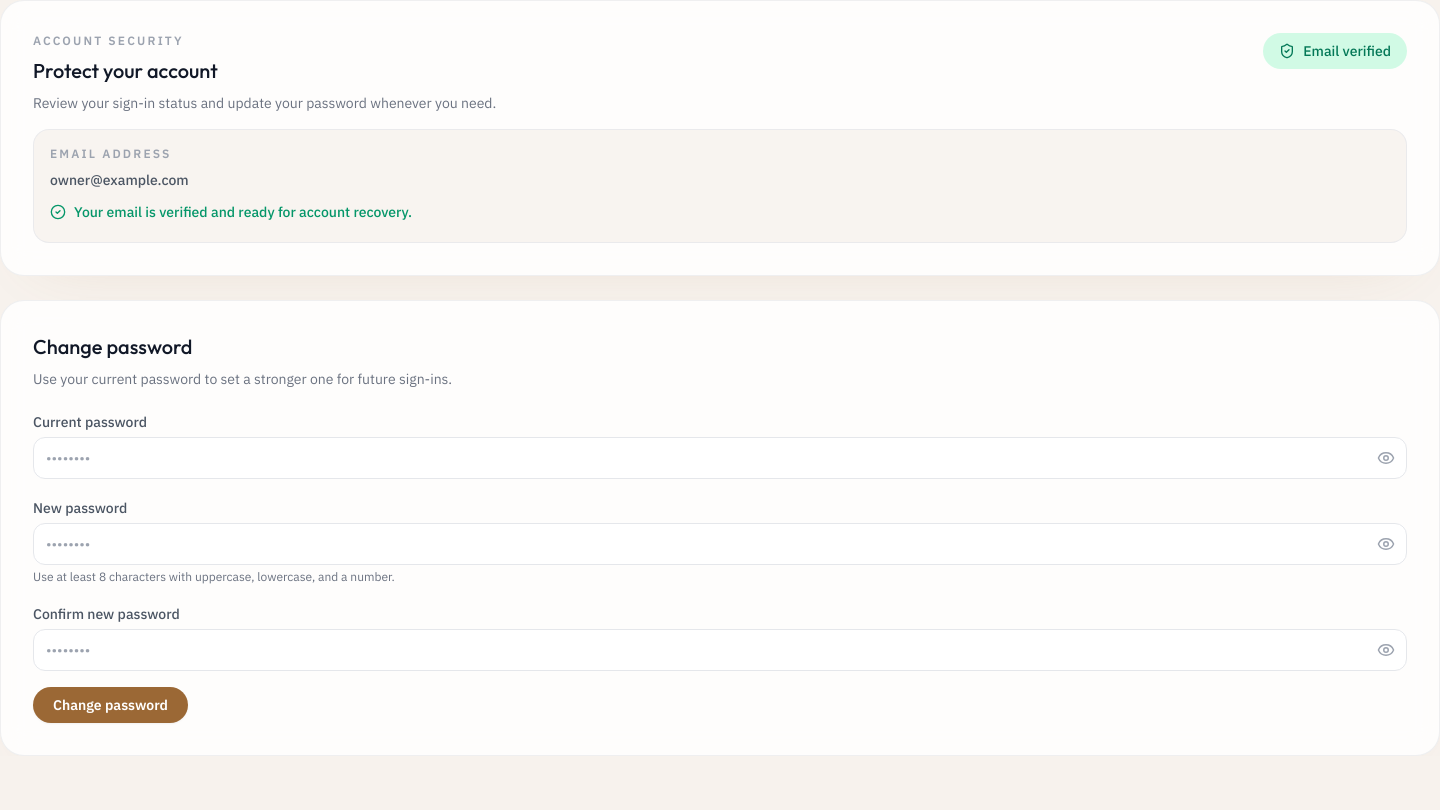
AccountSecurityPanel › shows a required message when confirm password is empty
The width and height of the screenshot is (1440, 810).
In the password field labelled "Current password": (720, 458) [33,437,1407,479], type "CurrentPass1"
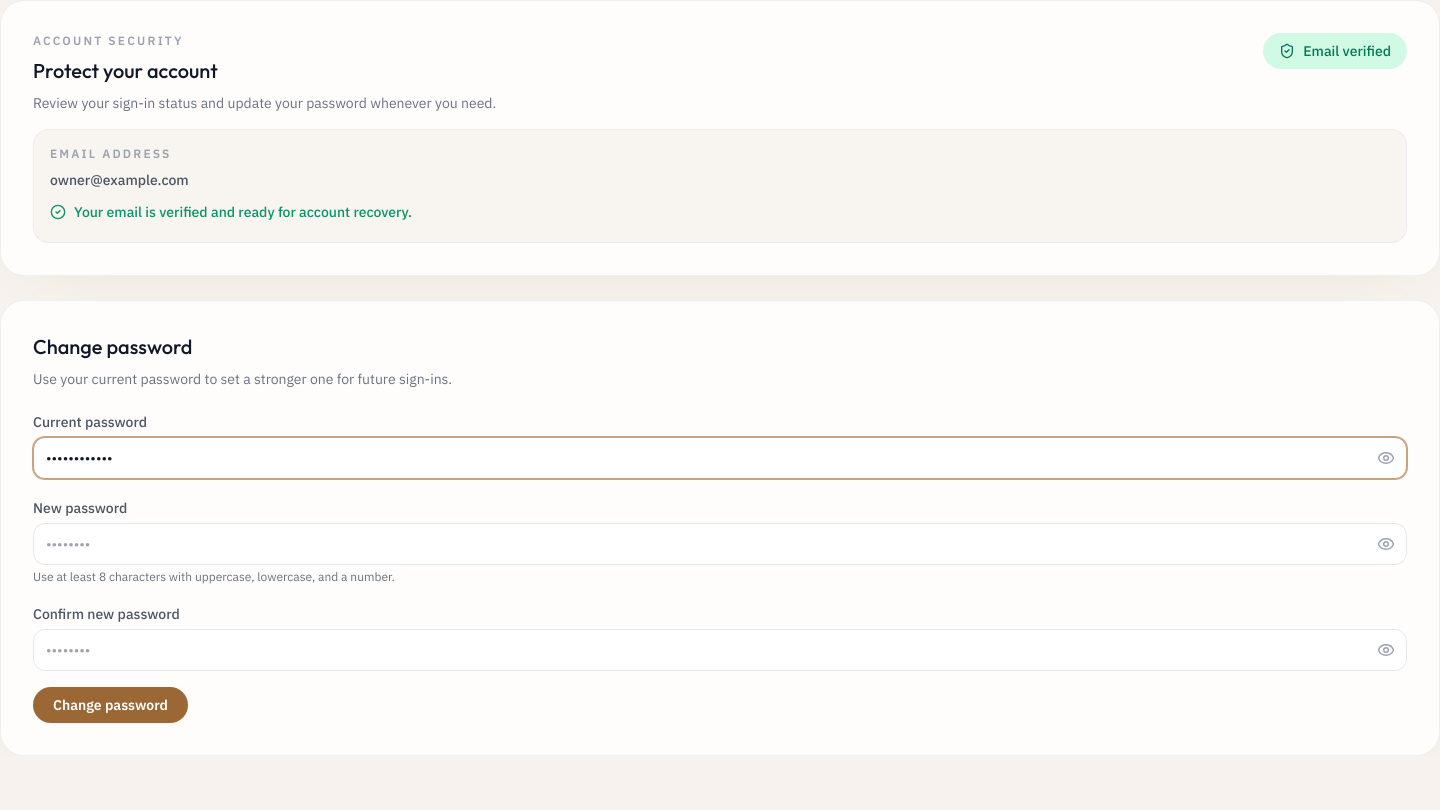
In the password field labelled "New password": (720, 544) [33,523,1407,565], type "StrongPass1"
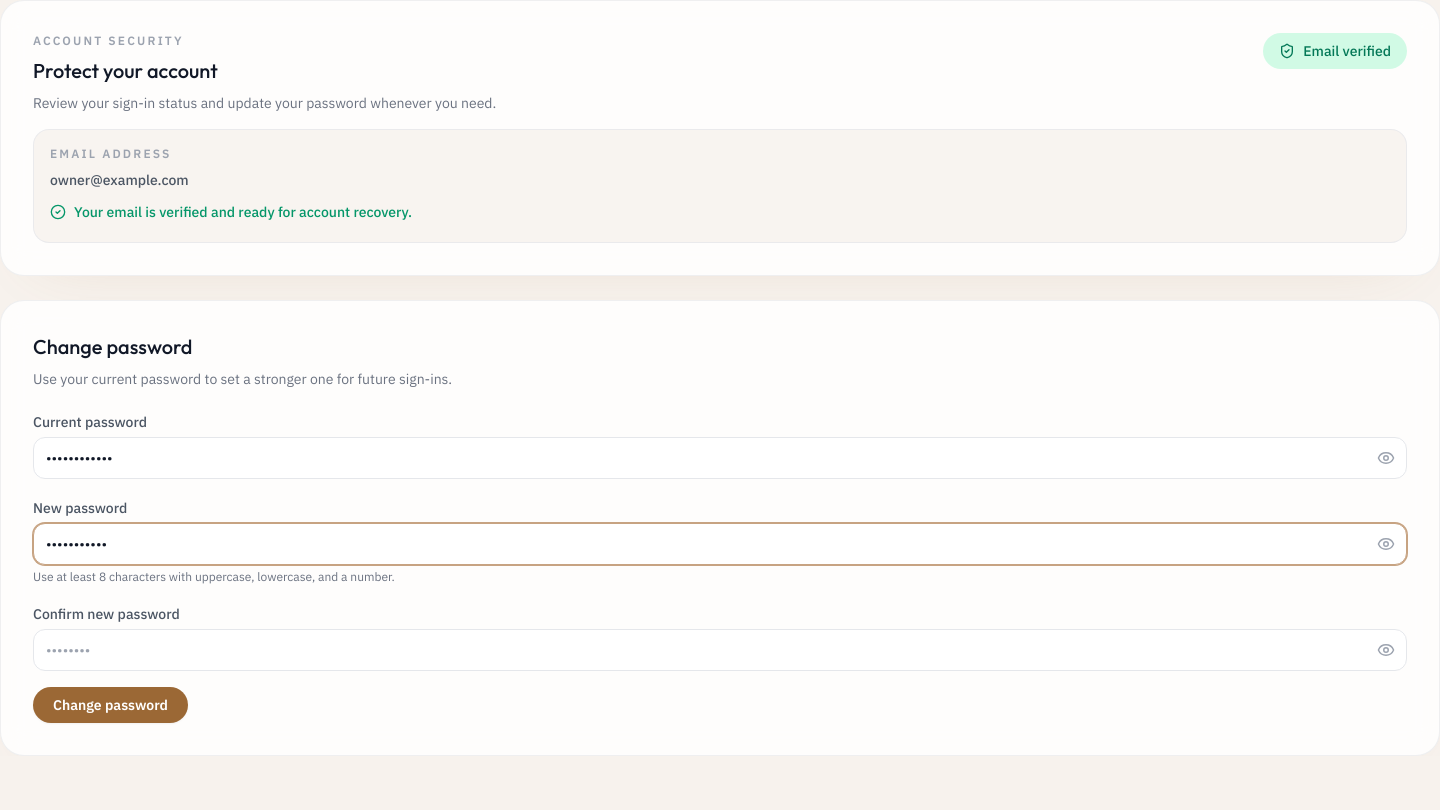
Click the button "Change password": (110, 705) [33,687,188,723]
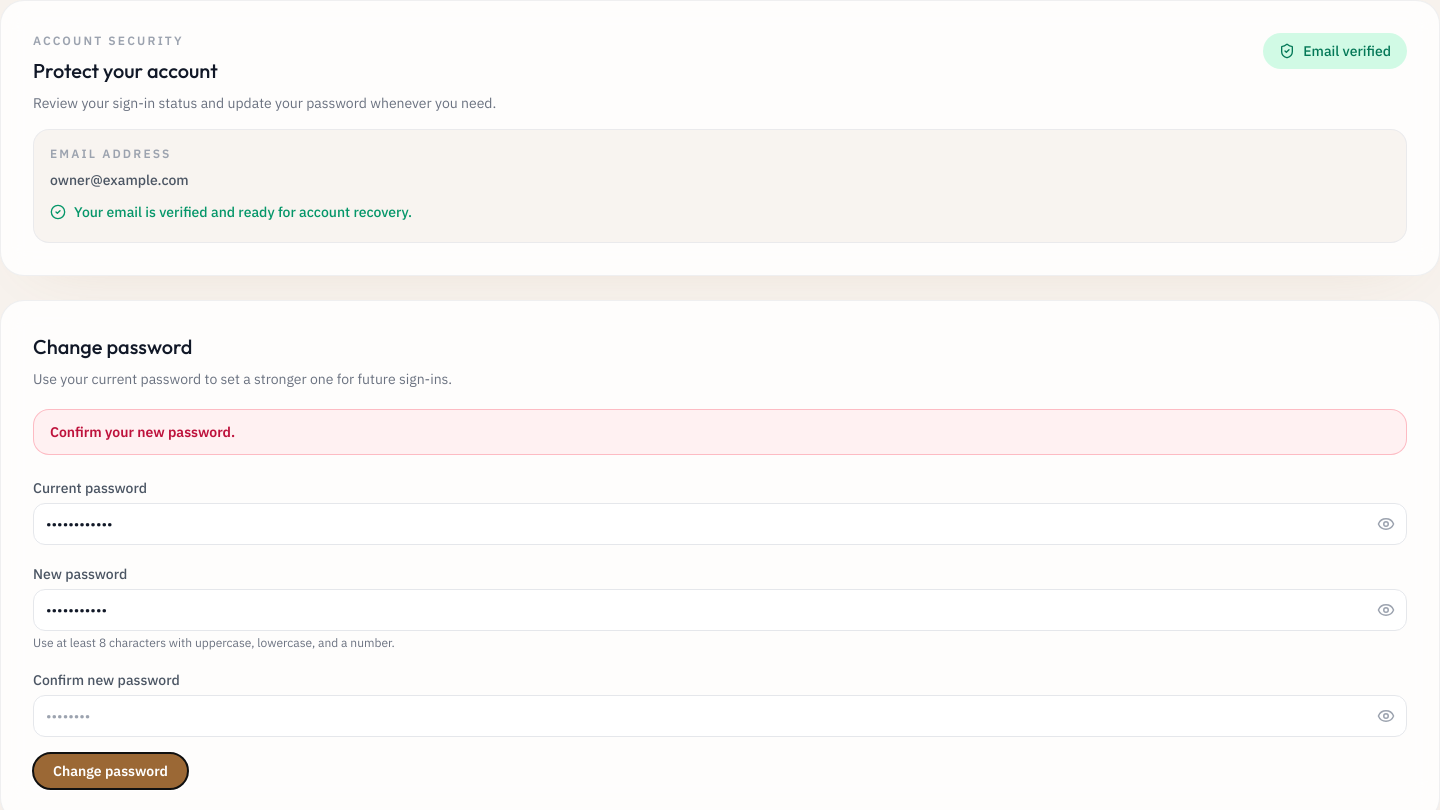
Check: the text "Confirm your new password." is shown, box [50,423,235,441]
